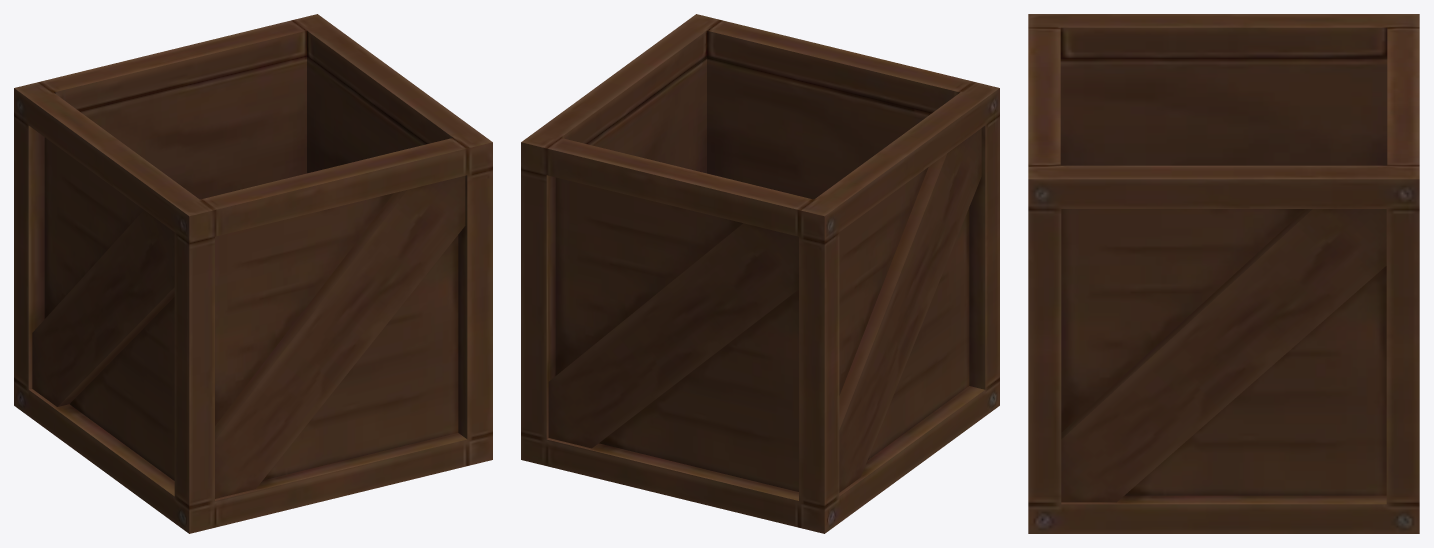
Rendered from wall-harbor-5.glb.
3 views of the same model, side by side, from view 1: azimuth 30°, elevation 25°; view 2: azimuth 150°, elevation 25°; view 3: azimuth 270°, elevation 25° (orthographic). The views are drawn at different scales.
Visible parts, largest first — view 1: piece; view 2: piece; view 3: piece.
Part boxes in pixels (x1,y1,x2,y2): piece: (14,14,492,533); piece: (521,14,999,533); piece: (1028,14,1419,533).
Bounding box in the file's own units: 3.7 × 3.7 × 3.7.
1 material, 1 textured.
